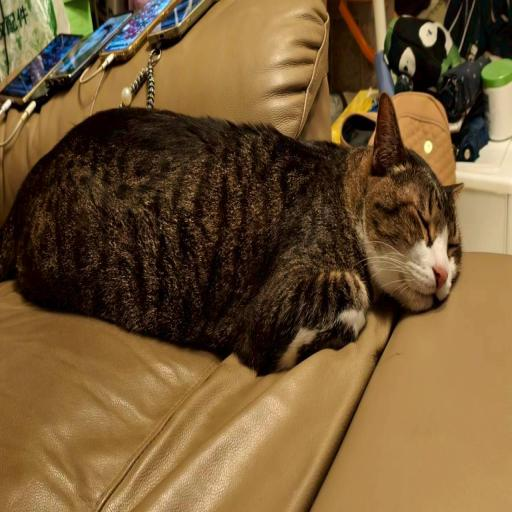cat: (0, 98, 462, 336)
